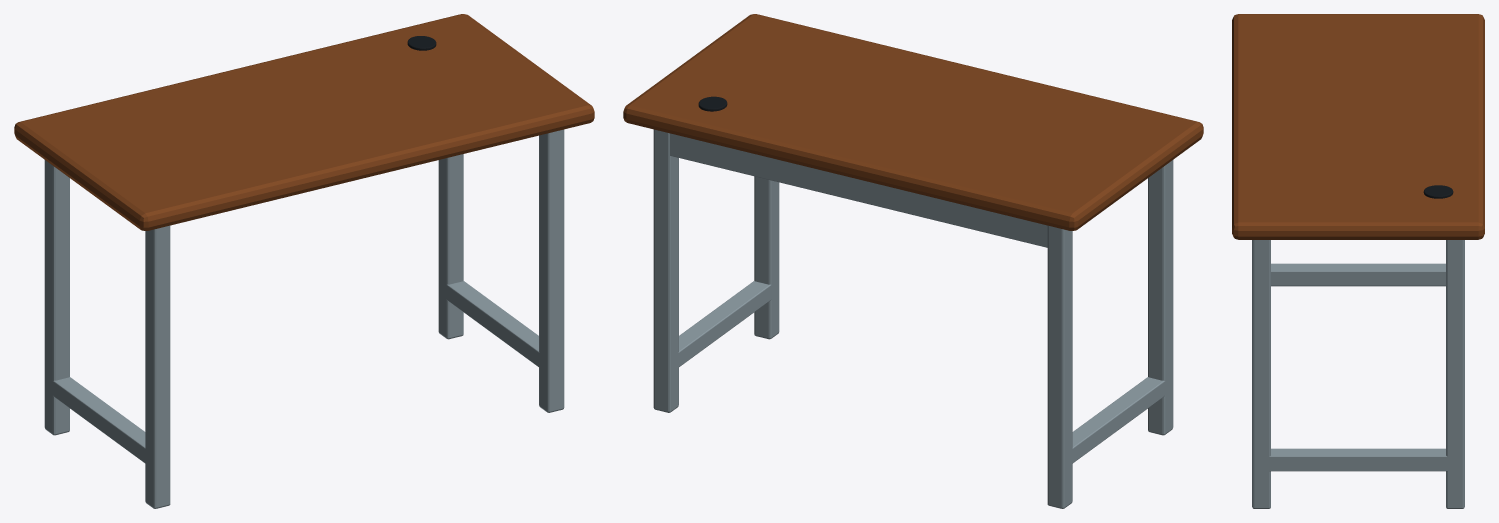
Rendered from edited.glb.
3 views of the same model, side by side, from view 1: azimuth 30°, elevation 25°; view 2: azimuth 150°, elevation 25°; view 3: azimuth 270°, elevation 25° (orthographic). The views are drawn at different scales.
Visible parts, largest first — view 1: TOP_WorkSurface, LEG.002, LEG, LEG.001, LEG.003, LEG_Brace, LEG_Brace.001; view 2: TOP_WorkSurface, FRAME_Rear, LEG.001, LEG.003, LEG, LEG.002, LEG_Brace.001, LEG_Brace; view 3: TOP_WorkSurface, LEG.002, LEG.003, LEG_Brace.001, LEG_Brace, CABLE_Grommet.
Boxes of the visible parts, left/top/right/bottom form: TOP_WorkSurface: left=14, top=14, right=594, bottom=230; LEG.002: left=539, top=129, right=564, bottom=412; LEG: left=145, top=225, right=170, bottom=508; LEG.001: left=44, top=160, right=69, bottom=435; LEG.003: left=438, top=154, right=463, bottom=339; LEG_Brace: left=46, top=376, right=151, bottom=467; LEG_Brace.001: left=446, top=281, right=545, bottom=370; TOP_WorkSurface: left=623, top=14, right=1203, bottom=230; FRAME_Rear: left=670, top=133, right=1047, bottom=247; LEG.001: left=1047, top=225, right=1072, bottom=508; LEG.003: left=653, top=129, right=678, bottom=412; LEG: left=1148, top=160, right=1173, bottom=435; LEG.002: left=754, top=176, right=779, bottom=339; LEG_Brace.001: left=672, top=281, right=778, bottom=371; LEG_Brace: left=1065, top=376, right=1171, bottom=467; TOP_WorkSurface: left=1232, top=14, right=1484, bottom=239; LEG.002: left=1252, top=240, right=1270, bottom=508; LEG.003: left=1446, top=240, right=1464, bottom=508; LEG_Brace.001: left=1256, top=448, right=1460, bottom=471; LEG_Brace: left=1271, top=263, right=1445, bottom=286; CABLE_Grommet: left=1423, top=185, right=1453, bottom=198.
Bounding box in the file's own units: 1.2 × 0.779 × 0.6.
